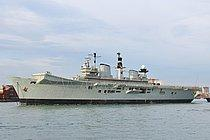MIL_Ship: (9, 51, 196, 105)
